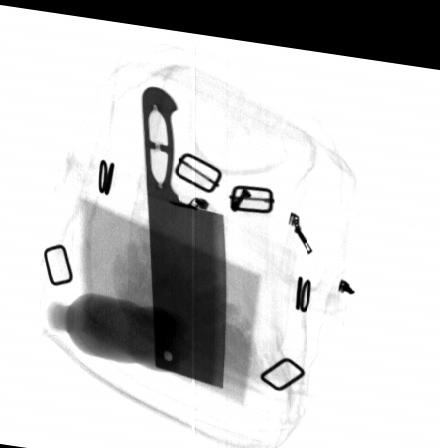Knife: (141, 79, 226, 383)
